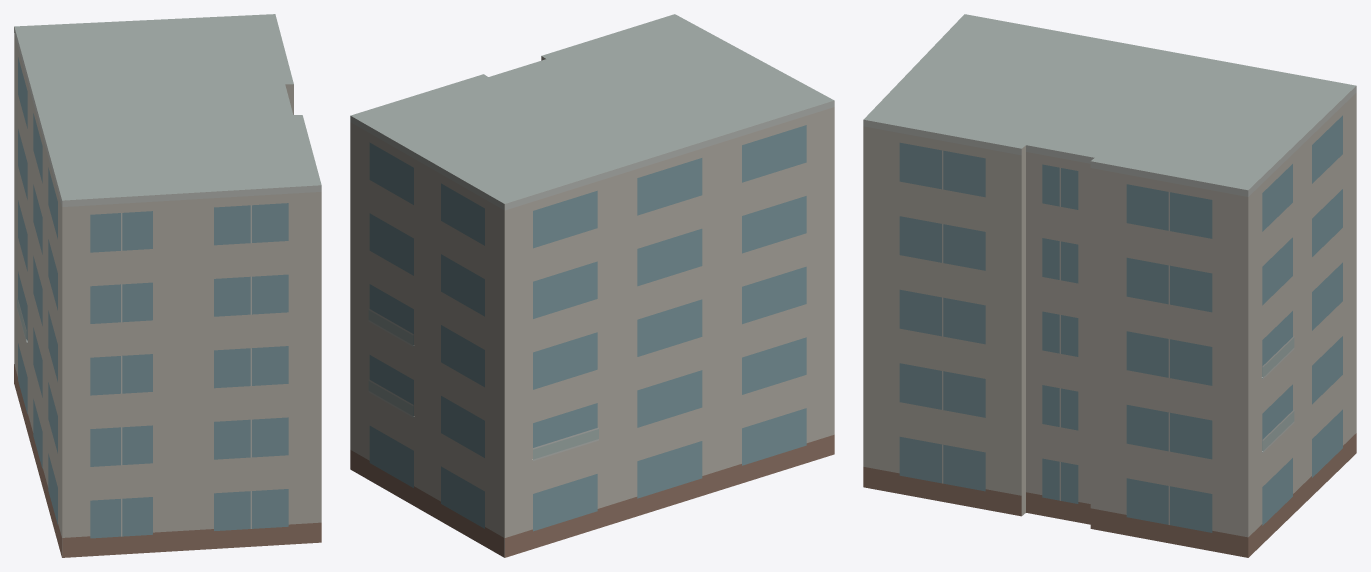
File: survey-upis-32970047.glb
The picture shows the model from 3 angles, left to right: view 1: azimuth 30°, elevation 25°; view 2: azimuth 150°, elevation 25°; view 3: azimuth 270°, elevation 25°; orthographic projection. The views are drawn at different scales.
Visible parts, largest first — view 1: survey-upis-32970047.tmp; view 2: survey-upis-32970047.tmp; view 3: survey-upis-32970047.tmp.
Part boxes in pixels (x1,y1,x2,y2): survey-upis-32970047.tmp: [14, 14, 321, 557]; survey-upis-32970047.tmp: [350, 14, 834, 557]; survey-upis-32970047.tmp: [863, 14, 1356, 557].
Bounding box in the file's own units: 13.69 × 13.3 × 16.18.
